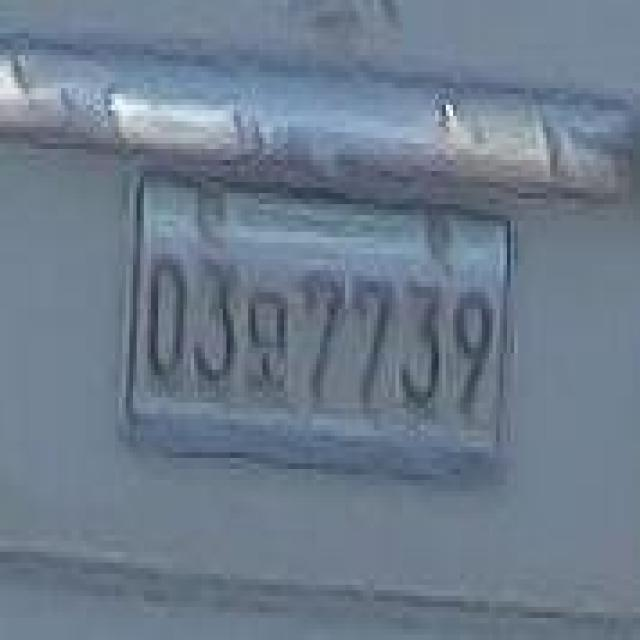illegal_plate: (126, 170, 517, 480)
